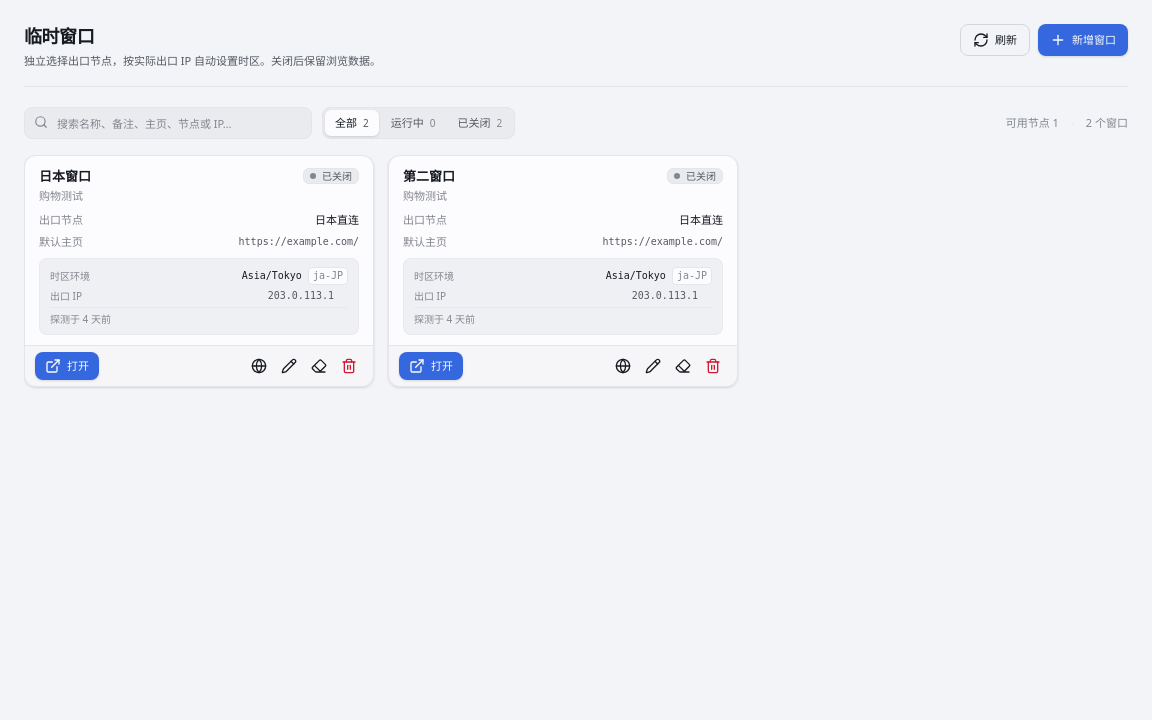
Test: keeps a cleanup confirmation open when another window finishes probing
Step 1. Click the button named "探测时区" below "第二窗口" → (623, 366), box [609,352,637,380]
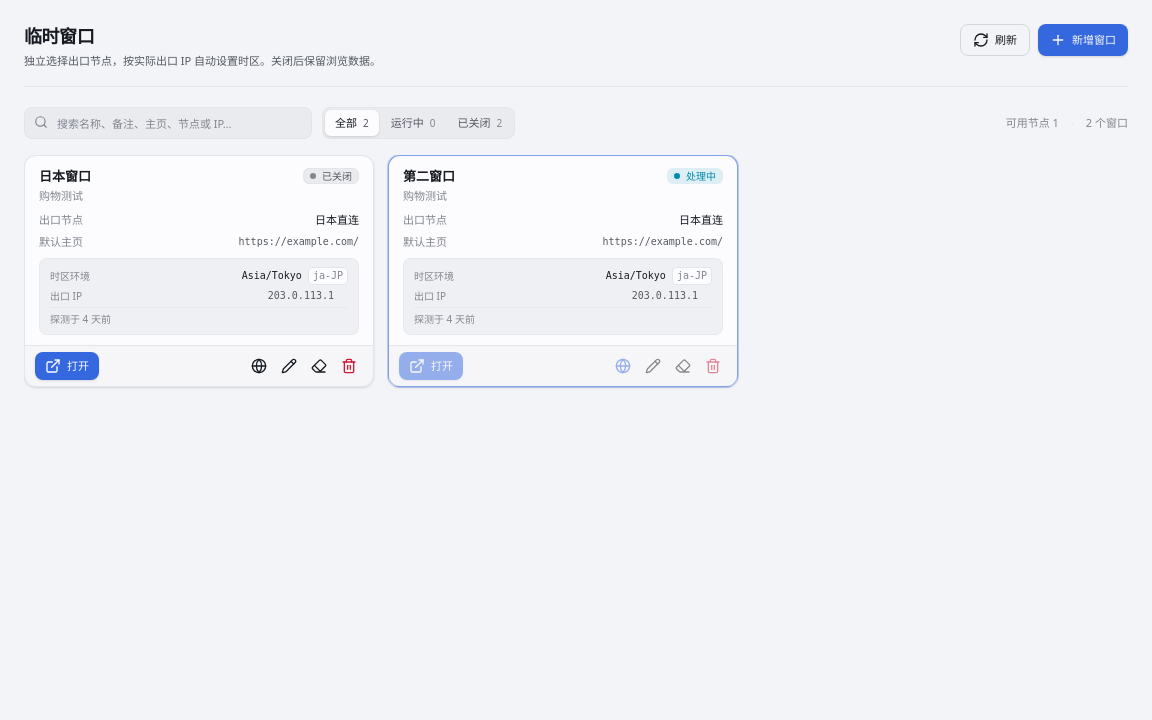
Step 2. Click the button named "清理浏览数据" below "日本窗口" → (319, 366), box [305,352,333,380]
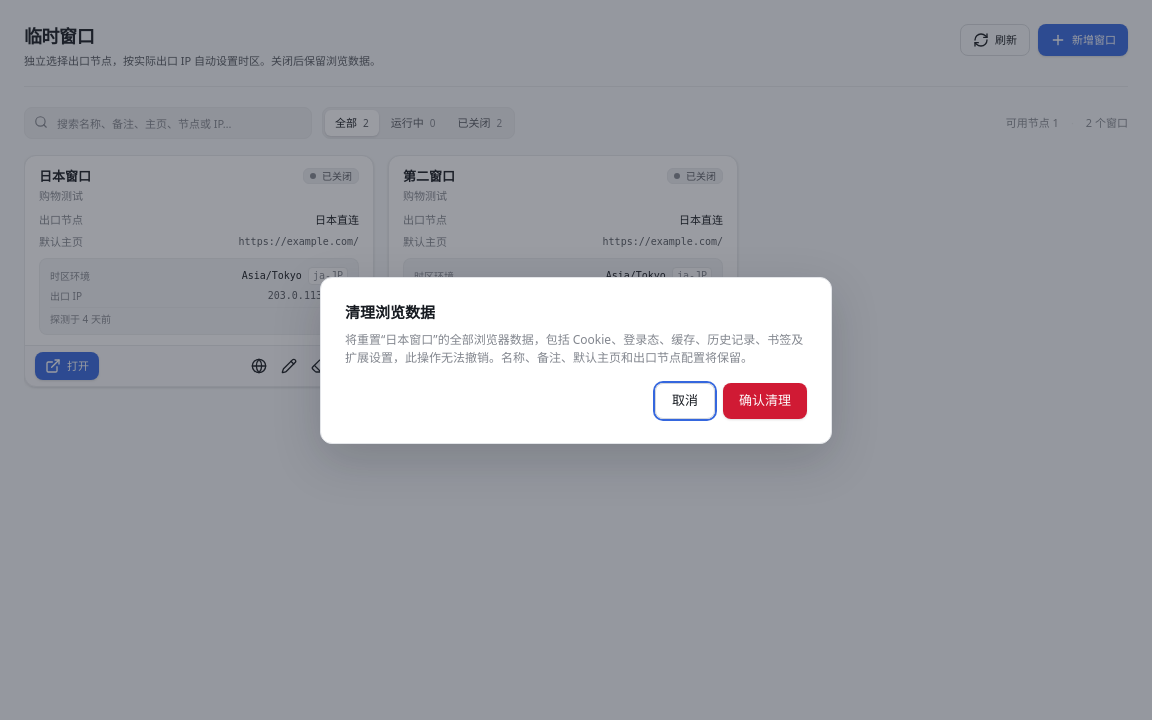
Now the dialog shows "日本窗口", box [385,330,433,348]
Now the button "确认清理" is enabled, box [723,382,807,418]
